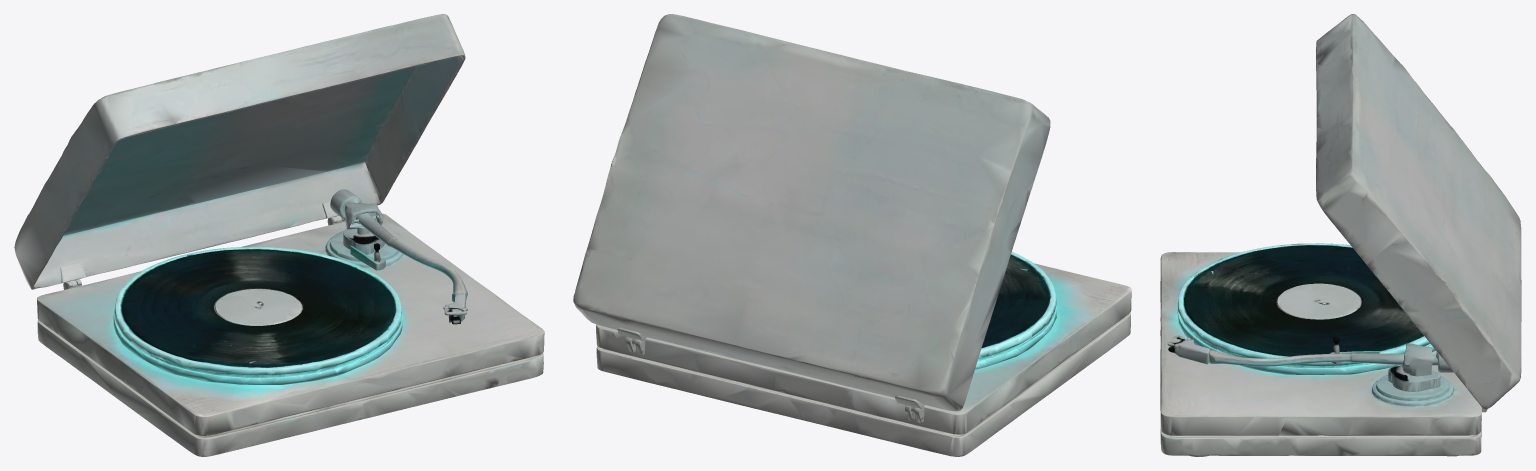
Rendered from turntable.glb.
The picture shows the model from 3 angles, left to right: view 1: azimuth 30°, elevation 25°; view 2: azimuth 150°, elevation 25°; view 3: azimuth 270°, elevation 25°; orthographic projection. The views are drawn at different scales.
Parts seen in each view (by area): view 1: root.1, root.0, root.2, root.4, root.3.0, root.3.1, root.6; view 2: root.1, root.0, root.2; view 3: root.1, root.0, root.2, root.4, root.3.0, root.3.1, root.3.3.
Part boxes in pixels (x1,y1,x2,y2): root.1: [14, 14, 465, 289]; root.0: [37, 213, 544, 456]; root.2: [113, 246, 402, 384]; root.4: [326, 226, 403, 267]; root.3.0: [347, 203, 467, 301]; root.3.1: [344, 203, 383, 229]; root.6: [60, 262, 85, 289]; root.1: [573, 14, 1050, 411]; root.0: [596, 263, 1131, 456]; root.2: [975, 252, 1056, 369]; root.1: [1316, 14, 1521, 409]; root.0: [1160, 252, 1481, 455]; root.2: [1177, 243, 1435, 374]; root.4: [1372, 365, 1454, 406]; root.3.0: [1209, 350, 1437, 366]; root.3.1: [1402, 343, 1432, 376]; root.3.3: [1174, 337, 1209, 364].
Bounding box in the file's own units: 1.9 × 1.53 × 1.73.
1 material, 1 textured.
